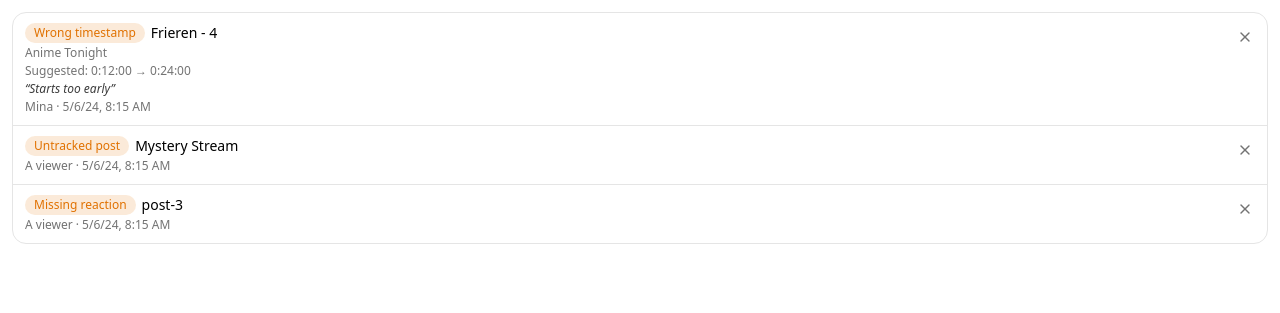
Test: reportsPage › shows why a report could not be dismissed
The image size is (1280, 313).
Click the 1st button named "dismiss report" at (1245, 37), box [1231,23,1259,51]
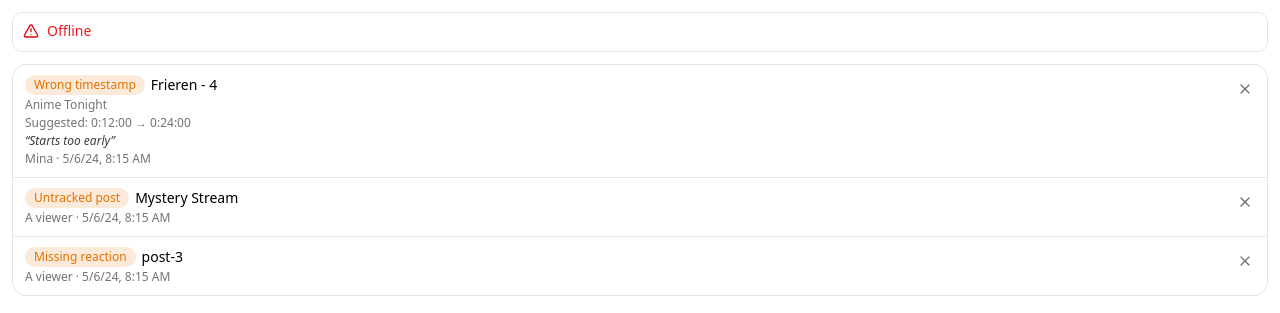
Expected: the number of list items is 3, [13,65,1267,178]; [13,178,1267,237]; [13,237,1267,295]
Expected: the message reads "Offline", [47,21,91,40]
